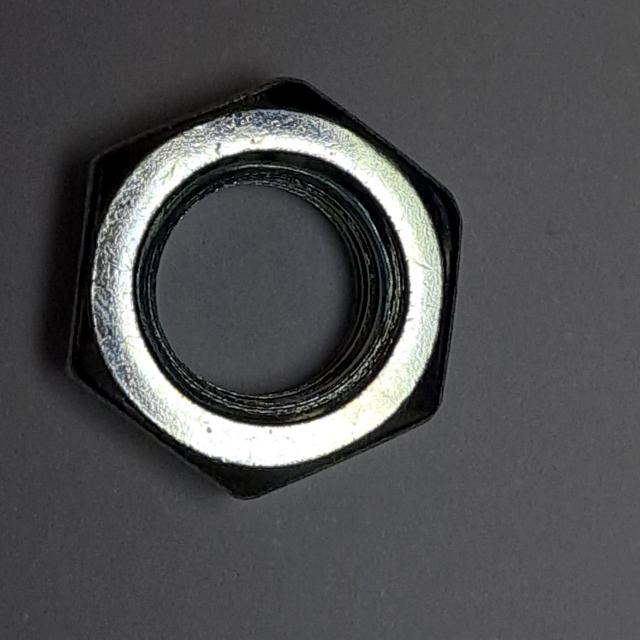Excellent: (51, 64, 475, 514)
